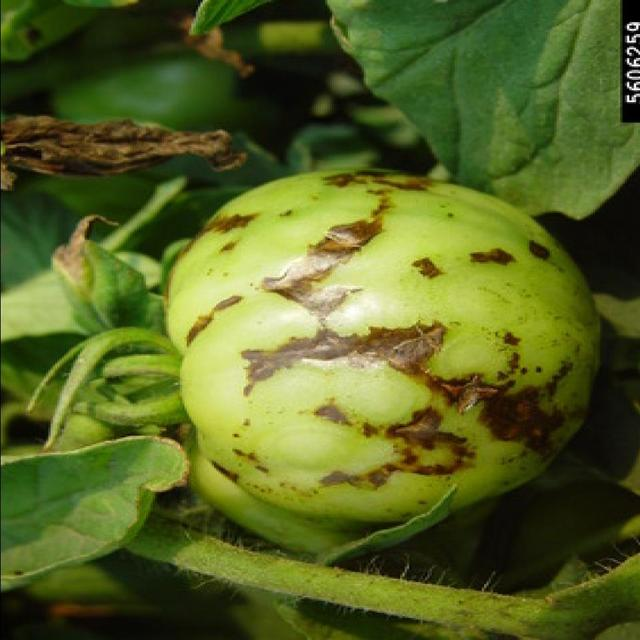Spotted wilt Virus Fruit: (105, 112, 399, 377)
